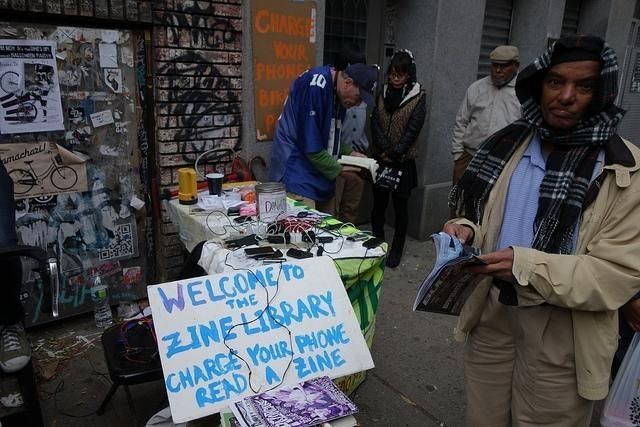bicycle: (0, 240, 62, 316)
